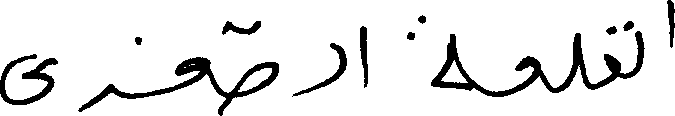ا: (357, 23, 369, 88), (665, 0, 673, 49)
ة: (404, 13, 472, 91)
ت: (608, 20, 644, 77)
ر: (76, 81, 113, 111)
ص: (222, 48, 280, 114)
غ: (129, 35, 210, 100), (602, 18, 633, 87), (513, 53, 540, 93)
ل: (314, 41, 346, 96), (570, 31, 584, 87)
ى: (0, 51, 58, 104)
